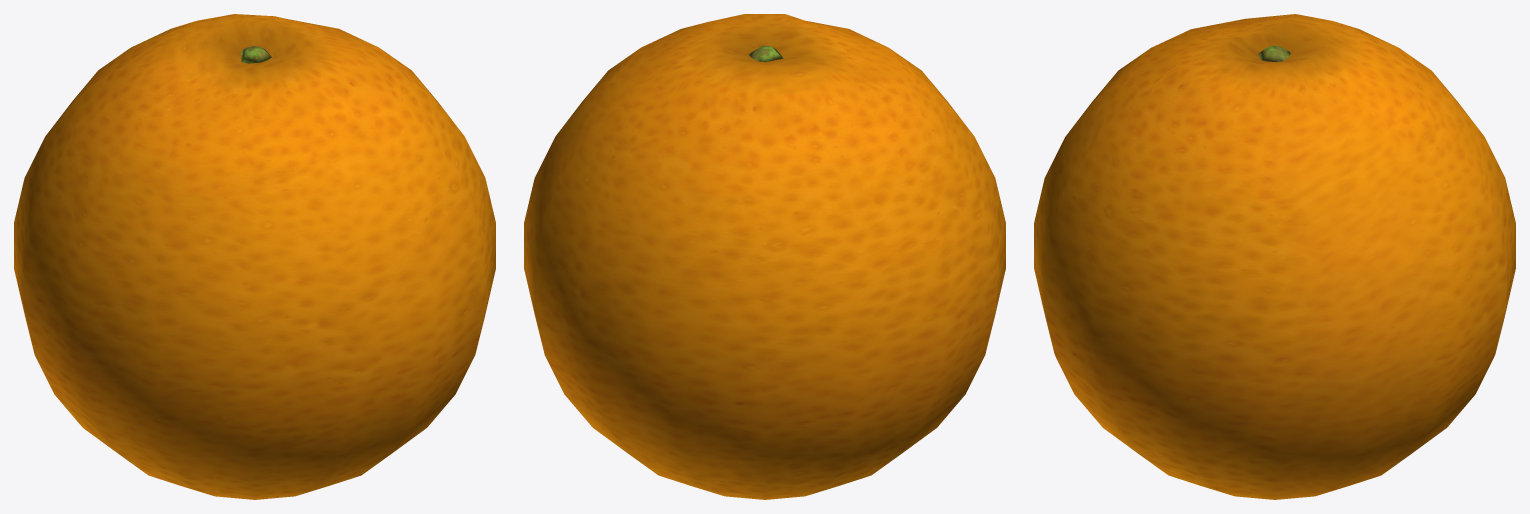
Rendered from Orange.fbx.
The picture shows the model from 3 angles, left to right: view 1: azimuth 30°, elevation 25°; view 2: azimuth 150°, elevation 25°; view 3: azimuth 270°, elevation 25°; orthographic projection.
Visible parts, largest first — view 1: Default_Layer; view 2: Default_Layer; view 3: Default_Layer.
Boxes of the visible parts, x1=… form: Default_Layer: x1=14, y1=14, x2=495, y2=499; Default_Layer: x1=524, y1=14, x2=1005, y2=499; Default_Layer: x1=1034, y1=14, x2=1515, y2=499.
Size of the model in its own units: 24.32 by 24.25 by 24.45.
